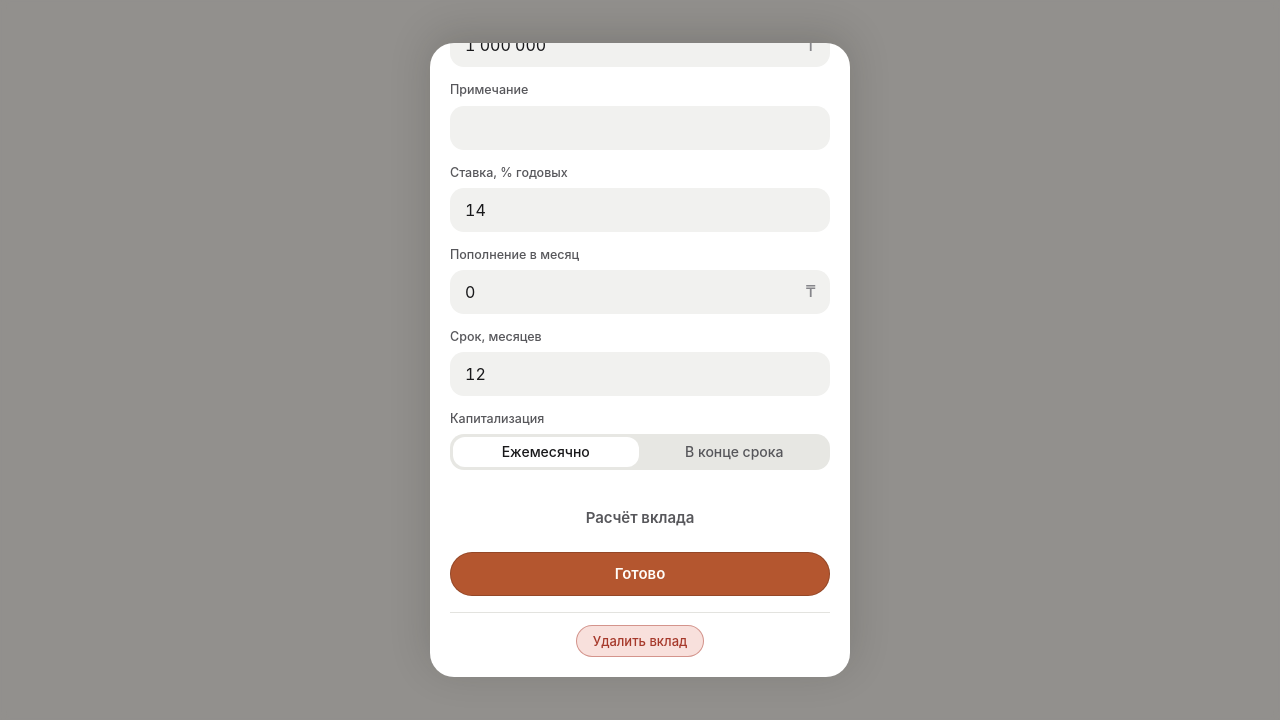
Scenario: B2C-42: вклад в листе счёта › «Расчёт вклада» свёрнут; раскрыт — будущая сумма и проценты из deposit()
(page scrolled)
Step 1. Click the heading "Расчёт вклада" → (640, 518), box x1=586 y1=508 x2=694 y2=527
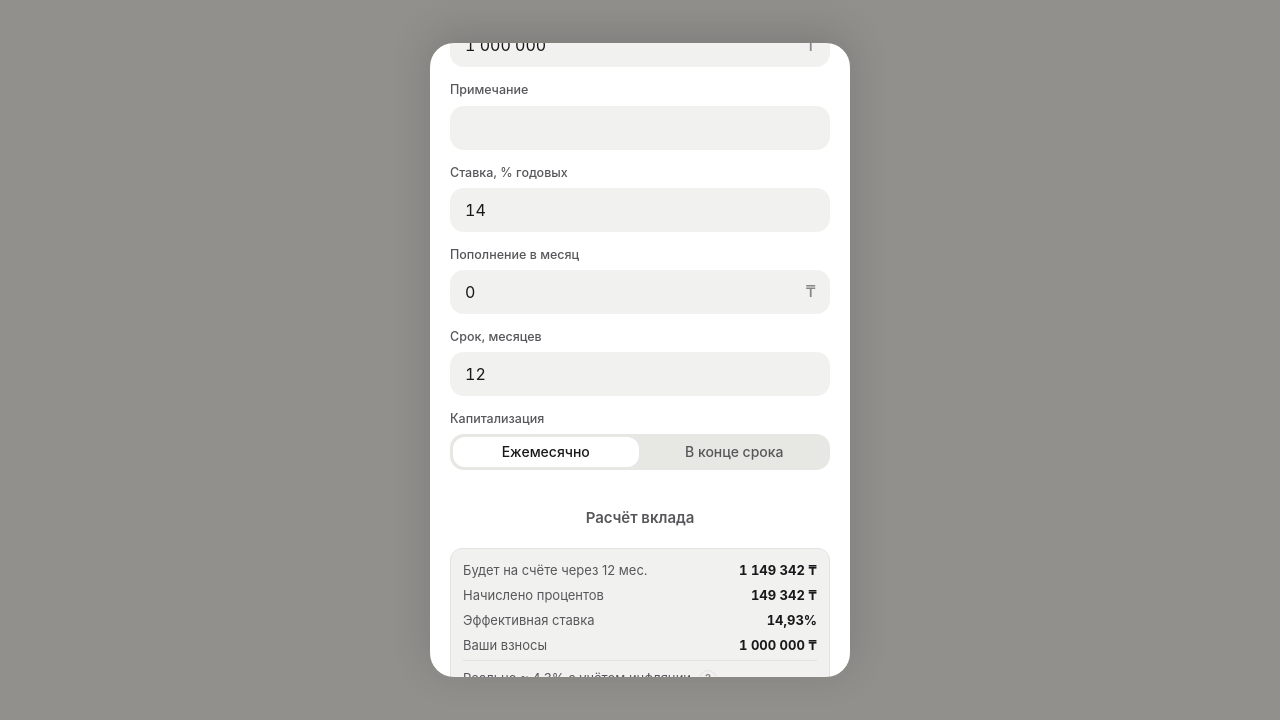
Result: the dialog shows "Реально ≈" at x1=463 y1=670 x2=691 y2=686
